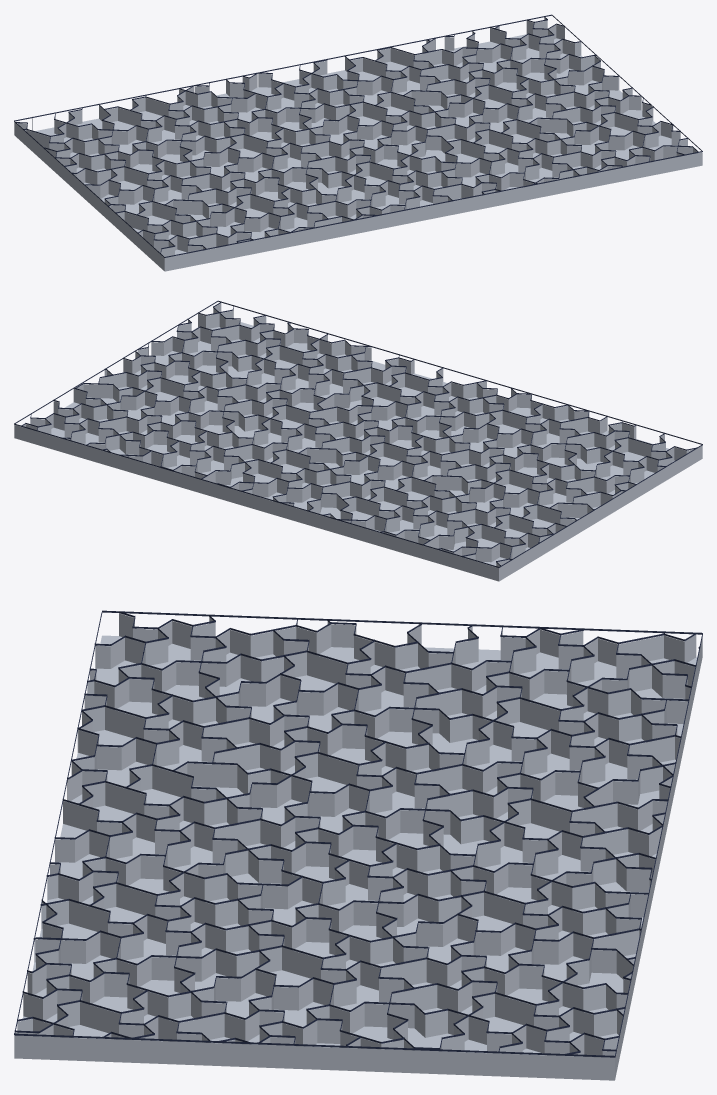
The model's file is sample-tiles.glb.
The picture shows the model from 3 angles, top to bottom: view 1: azimuth 30°, elevation 25°; view 2: azimuth 150°, elevation 25°; view 3: azimuth 270°, elevation 25°; orthographic projection. The views are drawn at different scales.
Parts seen in each view (by area): view 1: tile_t_spectre_tile_1_1__pv1.0.0__8f380f77644e07de28d2b65e30, tile_t_spectre_tile_1_1__pv1.0.0__d42d5d3e0b24dbbd80c8c6ceae, tile_t_spectre_tile_1_1__pv1.0.0__5078cc9bbb5d977ea42a0414f5, tile_t_spectre_tile_1_1__pv1.0.0__244731d9e5e5e65ae791017744, tile_t_spectre_tile_1_1__pv1.0.0__1d025fc1234c6f8e6be7d9f936, tile_t_spectre_tile_1_1__pv1.0.0__a8803fd80ede01a61eb615d32d, tile_t_spectre_tile_1_1__pv1.0.0__60b2d4ffd63e3ef81da17a296c, tile_t_spectre_tile_1_1__pv1.0.0__83ca9631f4d807901c5b5e8c95, tile_t_spectre_tile_1_1__pv1.0.0__50f52e94c0d51db6a3a4158874, tile_t_spectre_tile_1_1__pv1.0.0__37809d42cea8b824430732ac0d, tile_t_spectre_tile_1_1__pv1.0.0__21a88403ba50421575620f10fb, tile_t_spectre_tile_1_1__pv1.0.0__9d7709e761d167ed2cde876238 (+118 smaller); view 2: tile_t_spectre_tile_1_1__pv1.0.0__68ecefea274c36c0a3f5f6dcc6, tile_t_spectre_tile_1_1__pv1.0.0__8cf8bcbbdd08d0835deff8dba8, tile_t_spectre_tile_1_1__pv1.0.0__c48b0adbe3b4bb99b5bd96e78a, tile_t_spectre_tile_1_1__pv1.0.0__1ca3691947be6b24d4ce7b50ea, tile_t_spectre_tile_1_1__pv1.0.0__1249b3533a2262500d6a28e8c6, tile_t_spectre_tile_1_1__pv1.0.0__91c5b556027be635150d9984b2, tile_t_spectre_tile_1_1__pv1.0.0__cb48c2c941def38b1c5402e881, tile_t_spectre_tile_1_1__pv1.0.0__83b4648c54ffecce146b778040, tile_t_spectre_tile_1_1__pv1.0.0__37809d42cea8b824430732ac0d, tile_t_spectre_tile_1_1__pv1.0.0__ff231f367394c4307085c8ff68, tile_t_spectre_tile_1_1__pv1.0.0__28b775074b561c9173872cdaa4, tile_t_spectre_tile_1_1__pv1.0.0__1f6ec53a119cd87bd748068549 (+120 smaller); view 3: tile_t_spectre_tile_1_1__pv1.0.0__e6a7029ebcfe2a030b5a0171b1, tile_t_spectre_tile_1_1__pv1.0.0__4f61fd3ea5cce89653619fea17, tile_t_spectre_tile_1_1__pv1.0.0__edd1d629ce4f74c63082299fa9, tile_t_spectre_tile_1_1__pv1.0.0__2247b6f692952e476d0d15a4cf, tile_t_spectre_tile_1_1__pv1.0.0__0aaf9b3d7b2e227c3b293b83cc, tile_t_spectre_tile_1_1__pv1.0.0__ab5f0f4c2580fbabcee5eb71ac, tile_t_spectre_tile_1_1__pv1.0.0__30caef38cf0b72ea3105bcf105, tile_t_spectre_tile_1_1__pv1.0.0__91c5b556027be635150d9984b2, tile_t_spectre_tile_1_1__pv1.0.0__cb9e3dc5773f1c6dc6a3ec25e4, tile_t_spectre_tile_1_1__pv1.0.0__141d4bdc8d0ae0ed5cc776b945, tile_t_spectre_tile_1_1__pv1.0.0__5dc9bbbbb5bd02458dcc5e8554, tile_t_spectre_tile_1_1__pv1.0.0__53c9d9915586e9b5691932d98e (+124 smaller).
Part boxes in pixels (x1,y1,x2,y2): tile_t_spectre_tile_1_1__pv1.0.0__8f380f77644e07de28d2b65e30: [108, 166, 168, 204]; tile_t_spectre_tile_1_1__pv1.0.0__d42d5d3e0b24dbbd80c8c6ceae: [102, 106, 162, 144]; tile_t_spectre_tile_1_1__pv1.0.0__5078cc9bbb5d977ea42a0414f5: [313, 214, 377, 241]; tile_t_spectre_tile_1_1__pv1.0.0__244731d9e5e5e65ae791017744: [445, 139, 504, 177]; tile_t_spectre_tile_1_1__pv1.0.0__1d025fc1234c6f8e6be7d9f936: [347, 57, 406, 95]; tile_t_spectre_tile_1_1__pv1.0.0__a8803fd80ede01a61eb615d32d: [473, 84, 532, 122]; tile_t_spectre_tile_1_1__pv1.0.0__60b2d4ffd63e3ef81da17a296c: [234, 193, 294, 231]; tile_t_spectre_tile_1_1__pv1.0.0__83ca9631f4d807901c5b5e8c95: [599, 112, 658, 150]; tile_t_spectre_tile_1_1__pv1.0.0__50f52e94c0d51db6a3a4158874: [228, 134, 287, 172]; tile_t_spectre_tile_1_1__pv1.0.0__37809d42cea8b824430732ac0d: [392, 110, 456, 145]; tile_t_spectre_tile_1_1__pv1.0.0__21a88403ba50421575620f10fb: [466, 27, 526, 62]; tile_t_spectre_tile_1_1__pv1.0.0__9d7709e761d167ed2cde876238: [251, 108, 311, 145]; tile_t_spectre_tile_1_1__pv1.0.0__68ecefea274c36c0a3f5f6dcc6: [145, 377, 204, 415]; tile_t_spectre_tile_1_1__pv1.0.0__8cf8bcbbdd08d0835deff8dba8: [361, 382, 421, 420]; tile_t_spectre_tile_1_1__pv1.0.0__c48b0adbe3b4bb99b5bd96e78a: [368, 442, 427, 480]; tile_t_spectre_tile_1_1__pv1.0.0__1ca3691947be6b24d4ce7b50ea: [493, 469, 553, 507]; tile_t_spectre_tile_1_1__pv1.0.0__1249b3533a2262500d6a28e8c6: [487, 410, 546, 447]; tile_t_spectre_tile_1_1__pv1.0.0__91c5b556027be635150d9984b2: [287, 468, 351, 502]; tile_t_spectre_tile_1_1__pv1.0.0__cb48c2c941def38b1c5402e881: [465, 524, 525, 562]; tile_t_spectre_tile_1_1__pv1.0.0__83b4648c54ffecce146b778040: [119, 430, 179, 467]; tile_t_spectre_tile_1_1__pv1.0.0__37809d42cea8b824430732ac0d: [270, 404, 329, 442]; tile_t_spectre_tile_1_1__pv1.0.0__ff231f367394c4307085c8ff68: [391, 416, 451, 453]; tile_t_spectre_tile_1_1__pv1.0.0__28b775074b561c9173872cdaa4: [270, 449, 330, 485]; tile_t_spectre_tile_1_1__pv1.0.0__1f6ec53a119cd87bd748068549: [259, 328, 319, 365]; tile_t_spectre_tile_1_1__pv1.0.0__e6a7029ebcfe2a030b5a0171b1: [291, 751, 392, 816]; tile_t_spectre_tile_1_1__pv1.0.0__4f61fd3ea5cce89653619fea17: [280, 650, 381, 715]; tile_t_spectre_tile_1_1__pv1.0.0__edd1d629ce4f74c63082299fa9: [78, 705, 179, 770]; tile_t_spectre_tile_1_1__pv1.0.0__2247b6f692952e476d0d15a4cf: [42, 899, 143, 963]; tile_t_spectre_tile_1_1__pv1.0.0__0aaf9b3d7b2e227c3b293b83cc: [457, 890, 558, 955]; tile_t_spectre_tile_1_1__pv1.0.0__ab5f0f4c2580fbabcee5eb71ac: [255, 945, 356, 1010]; tile_t_spectre_tile_1_1__pv1.0.0__30caef38cf0b72ea3105bcf105: [295, 902, 397, 965]; tile_t_spectre_tile_1_1__pv1.0.0__91c5b556027be635150d9984b2: [504, 798, 605, 862]; tile_t_spectre_tile_1_1__pv1.0.0__cb9e3dc5773f1c6dc6a3ec25e4: [342, 808, 443, 872]; tile_t_spectre_tile_1_1__pv1.0.0__141d4bdc8d0ae0ed5cc776b945: [468, 992, 569, 1053]; tile_t_spectre_tile_1_1__pv1.0.0__5dc9bbbbb5bd02458dcc5e8554: [248, 841, 349, 906]; tile_t_spectre_tile_1_1__pv1.0.0__53c9d9915586e9b5691932d98e: [248, 917, 349, 981].
Size of the model in its own units: 41.97 by 1.1 by 27.43.
